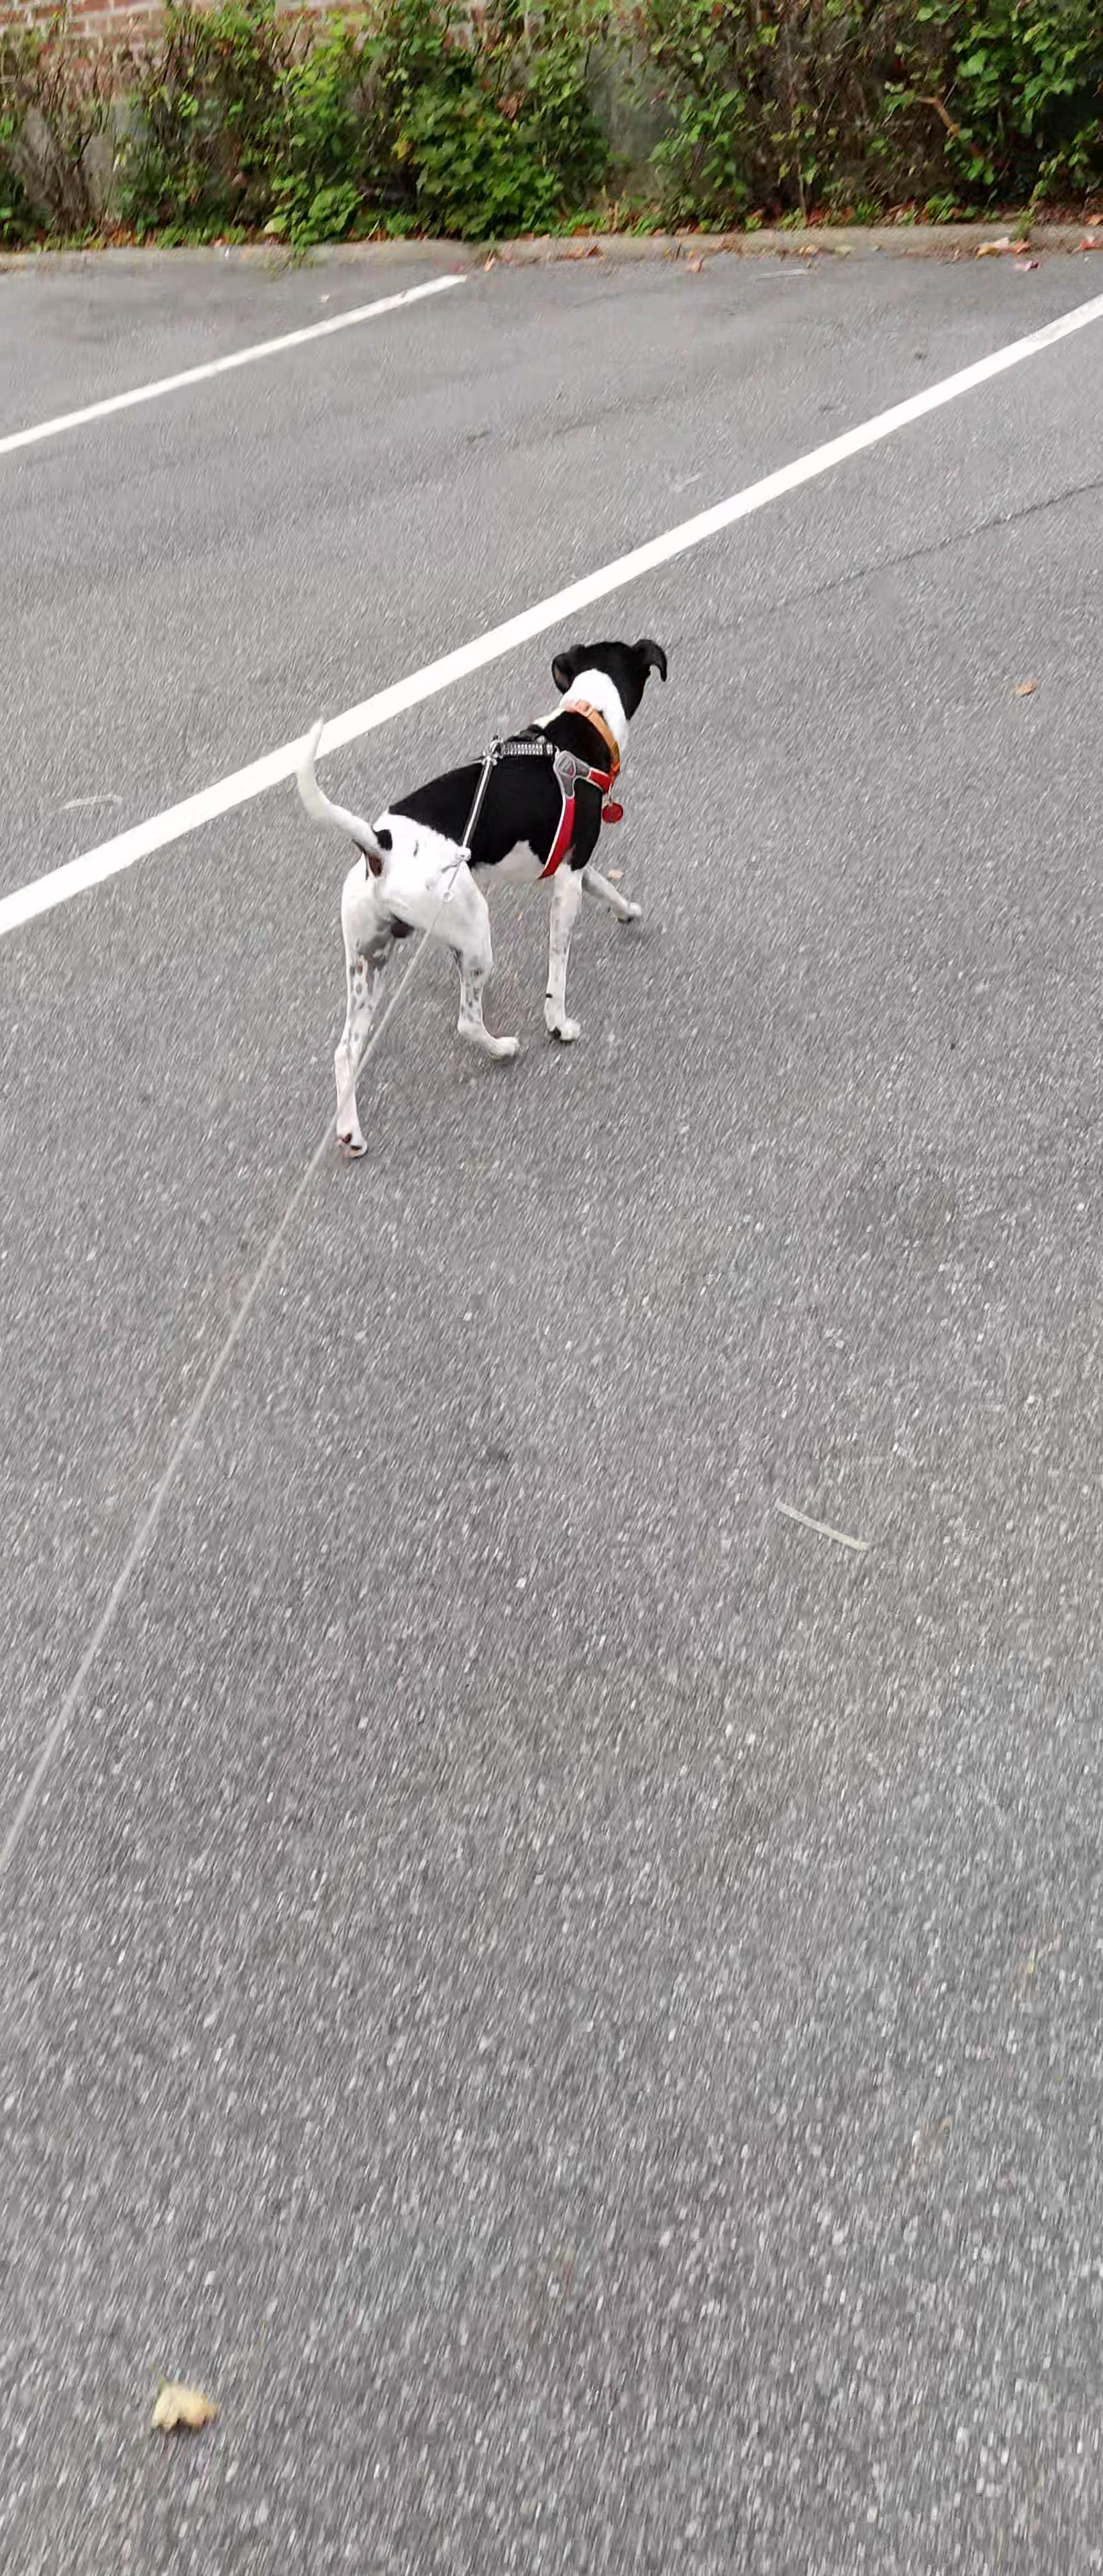Dog: (296, 628, 676, 1163)
